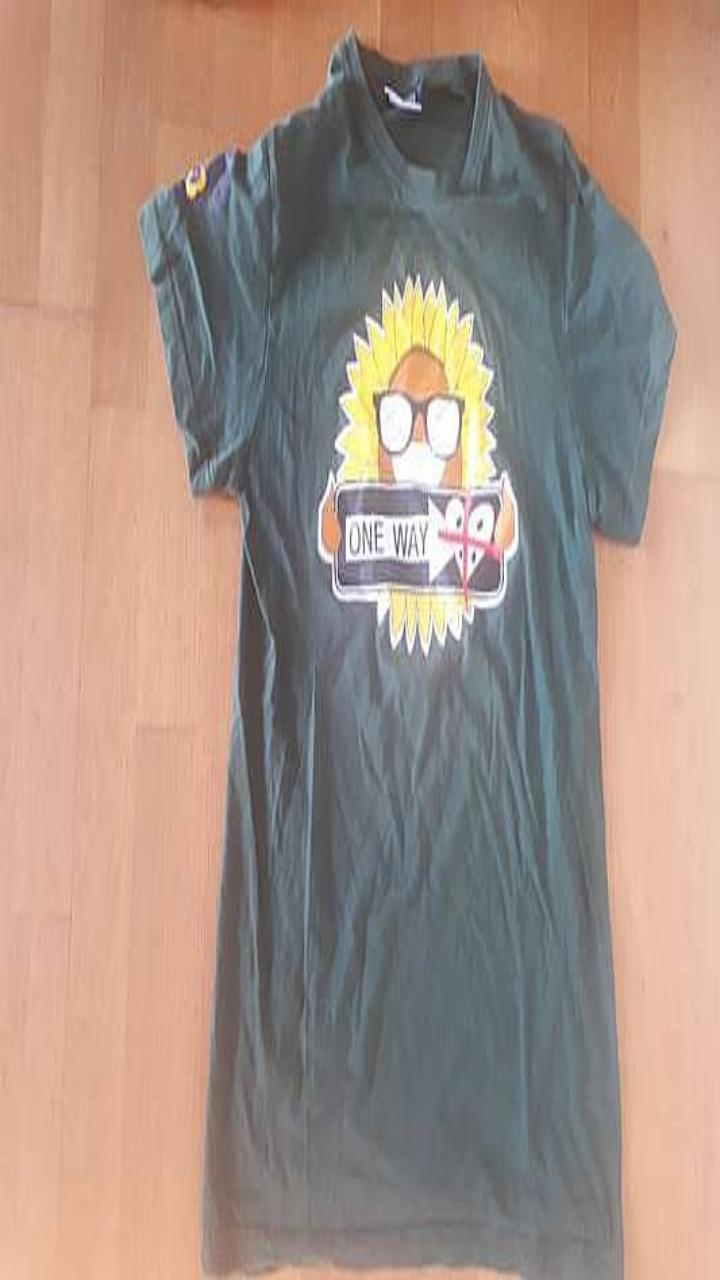T-Shirt: (139, 28, 675, 1279)
